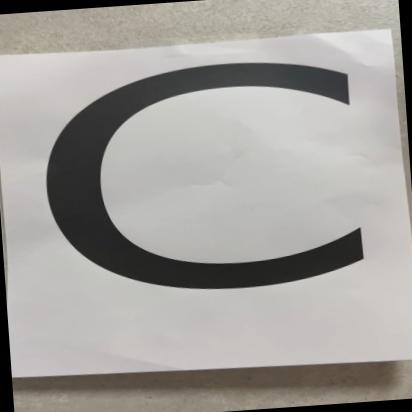seat: (0, 23, 412, 374), (6, 29, 412, 369)
